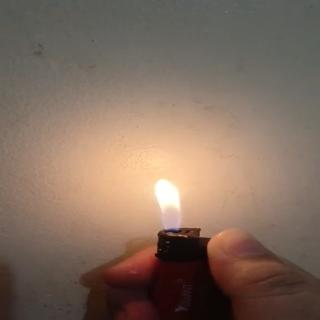fire: (141, 172, 198, 237)
